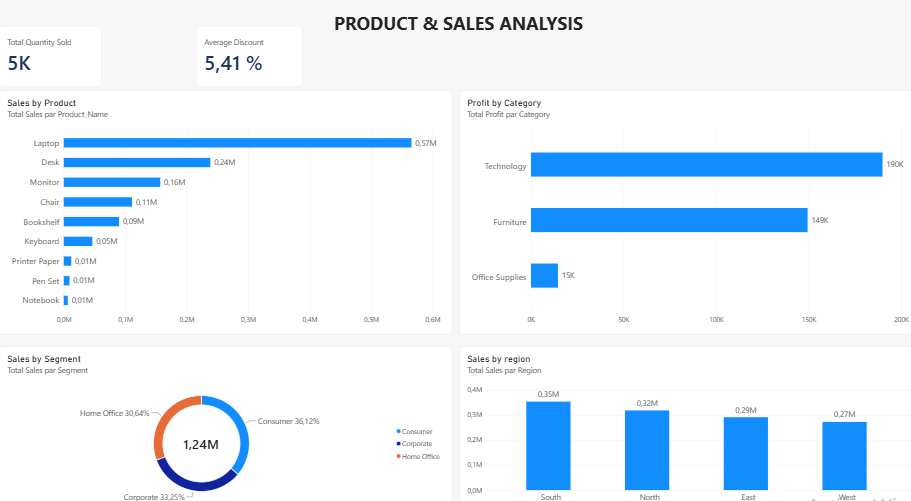

The page's visual inventory and layout, read from the dashboard file:
{"tool":"powerbi","page":{"name":"Sales & Analysis","canvas":[1920,1080],"ordinal":1},"visuals":[{"type":"textbox","box":[697.5,32.5,655,65],"z":0},{"type":"cardVisual","fields":{"Data":["Sales.Total Quantity Sold"]},"box":[0,65,214,126],"z":1000},{"type":"cardVisual","fields":{"Data":["Sales.Average Discount"]},"box":[410,65,222,126],"z":2000},{"type":"clusteredBarChart","title":"Sales by Product","fields":{"Category":["Sales.Product_Name"],"Y":["Sales.Total Sales"]},"box":[0,197.5,945,510],"z":3000},{"type":"clusteredBarChart","title":"Profit by Category","fields":{"Category":["Sales.Category"],"Y":["Sales.Total Profit"]},"box":[960,197.5,960,510],"z":4000},{"type":"donutChart","title":"Sales by Segment","fields":{"Category":["Sales.Segment"],"Y":["Sales.Total Sales"]},"box":[0,732.5,945,347.5],"z":5000},{"type":"clusteredColumnChart","title":"Sales by region ","fields":{"Category":["Sales.Region"],"Y":["Sales.Total Sales"]},"box":[960,732.5,960,347.5],"z":6000},{"type":"textbox","box":[214,41,484,150],"z":7000}]}

Visuals, with their boxes in screenshot pixels (x1, y1, x2, y2), scaled from the page's 1920x1080 canvas onto the 911x501 screenshot:
textbox: (x1=331, y1=15, x2=642, y2=45)
cardVisual - Sales.Total Quantity Sold: (x1=0, y1=30, x2=102, y2=89)
cardVisual - Sales.Average Discount: (x1=195, y1=30, x2=300, y2=89)
"Sales by Product" clusteredBarChart: (x1=0, y1=92, x2=448, y2=328)
"Profit by Category" clusteredBarChart: (x1=456, y1=92, x2=910, y2=328)
"Sales by Segment" donutChart: (x1=0, y1=340, x2=448, y2=500)
"Sales by region " clusteredColumnChart: (x1=456, y1=340, x2=910, y2=500)
textbox: (x1=102, y1=19, x2=331, y2=89)
